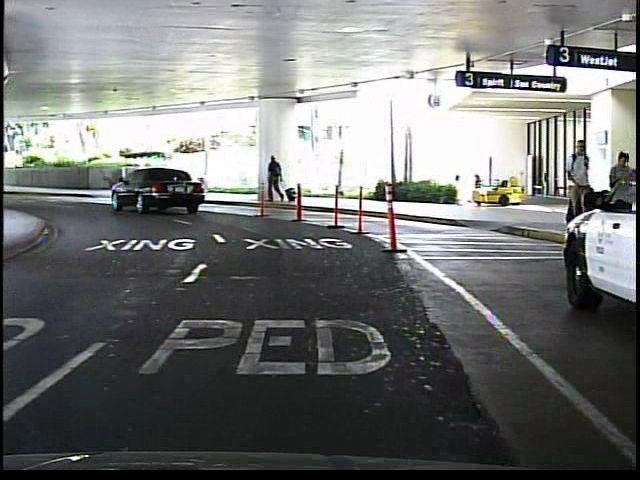person: (559, 135, 593, 235), (262, 153, 288, 207)
